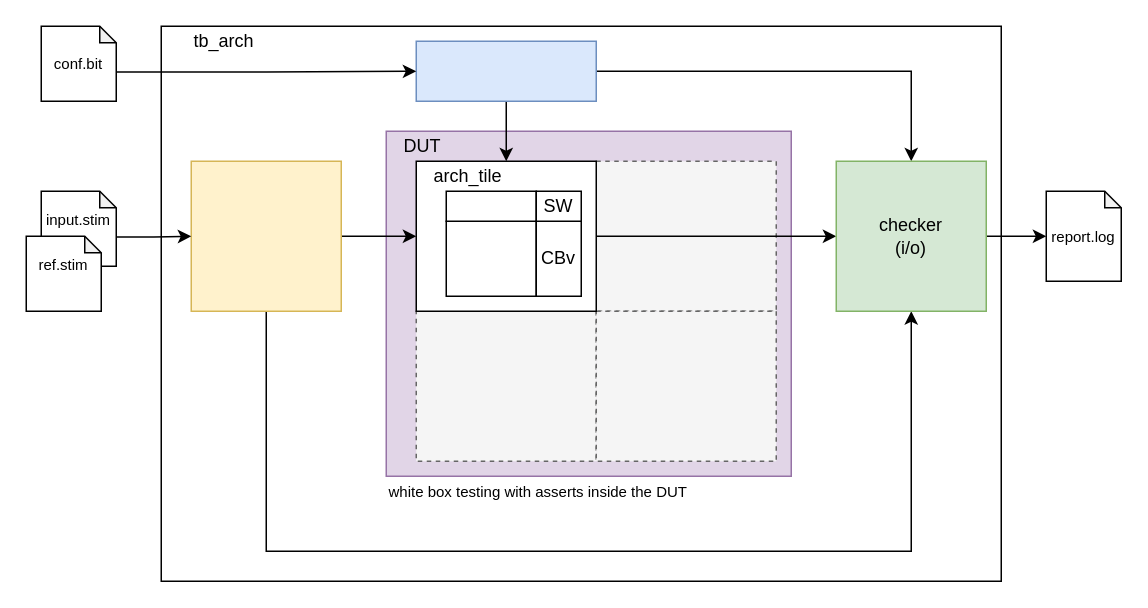
This 1148x608 diagram has some shape labels left out. Here are the shapes that lost their labels. From the top down, the box of each, then its label:
(415, 40, 596, 101): bitstream_loader
(445, 190, 536, 221): CBh
(190, 160, 341, 311): stimulator (clk, reset, i/o)
(445, 220, 536, 296): CLB
